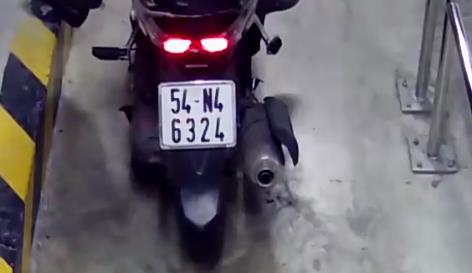lisence: (158, 79, 235, 149)
